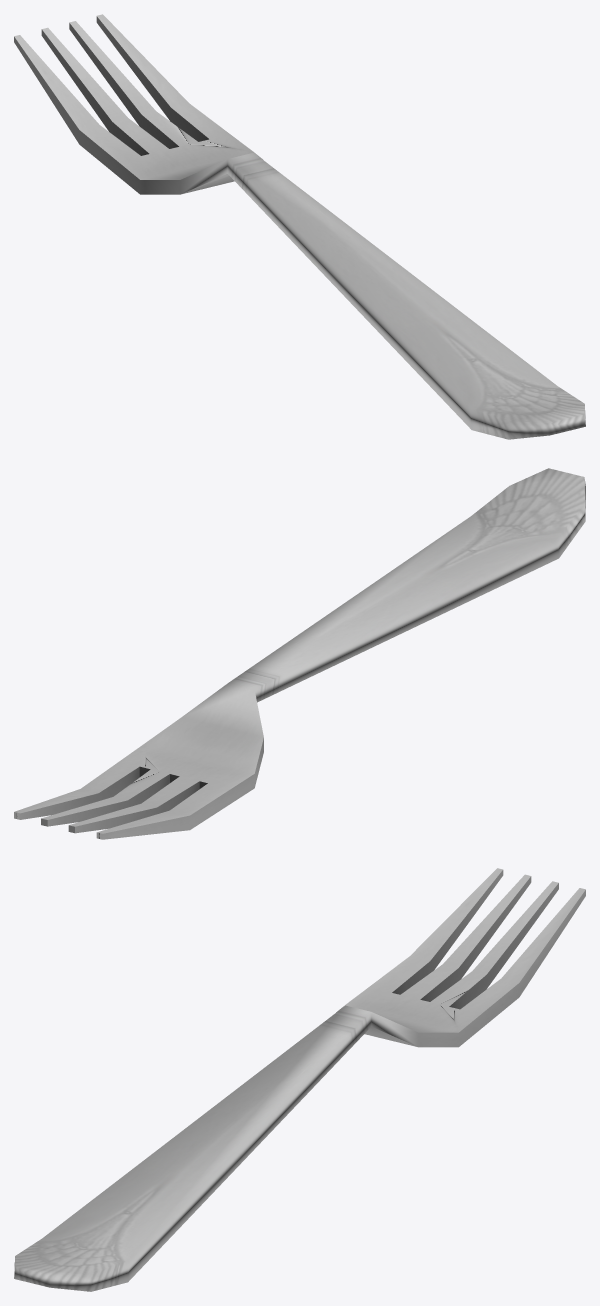
Rendered from ForkSmall.fbx.
3 views of the same model, one above another, from view 1: azimuth 30°, elevation 25°; view 2: azimuth 150°, elevation 25°; view 3: azimuth 330°, elevation 25° (orthographic).
Parts seen in each view (by area): view 1: Default_Layer; view 2: Default_Layer; view 3: Default_Layer.
Part boxes in pixels (box(x1,y1,x2,y2)): Default_Layer: box(14, 14, 585, 439); Default_Layer: box(14, 468, 585, 839); Default_Layer: box(14, 868, 585, 1291).
Size of the model in its own units: 5.7 by 3 by 44.26.
